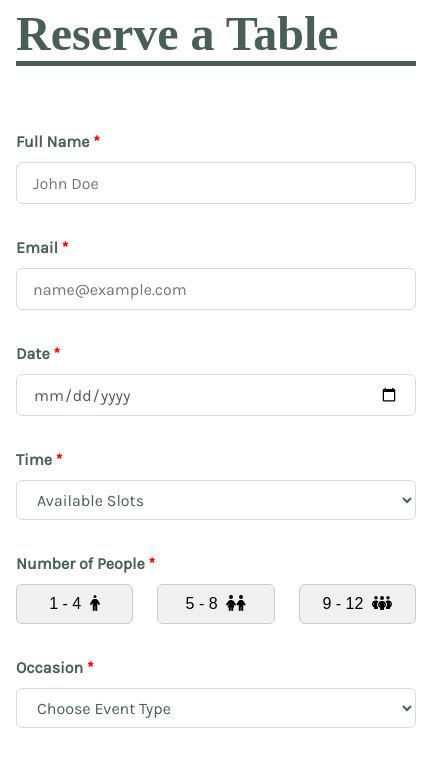
Booking Form › should display an error message and if selected date is in the past
// Set an invalid date
Type "2024-12-12" into the date field labelled "Date *" at (216, 395), box [16, 374, 416, 416]
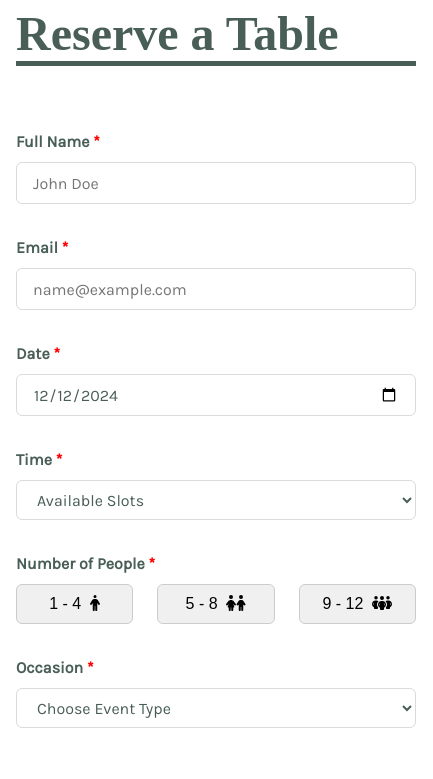
Leave the date field labelled "Date *", box [16, 374, 416, 416]
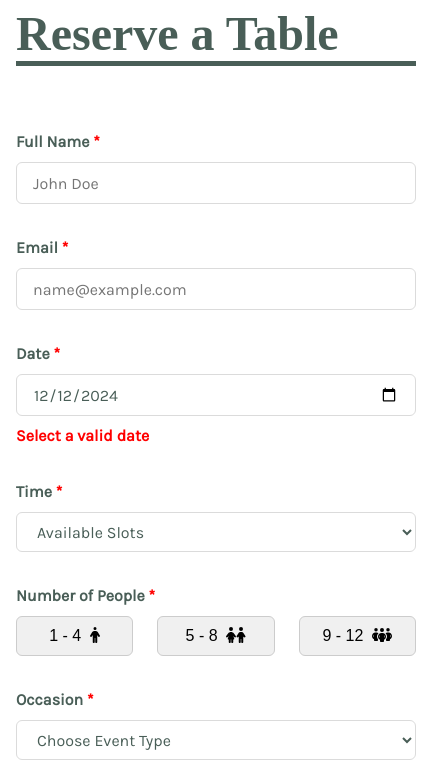
expect the text with test id "error-message" reads "Select a valid date": met, box [16, 426, 149, 445]
